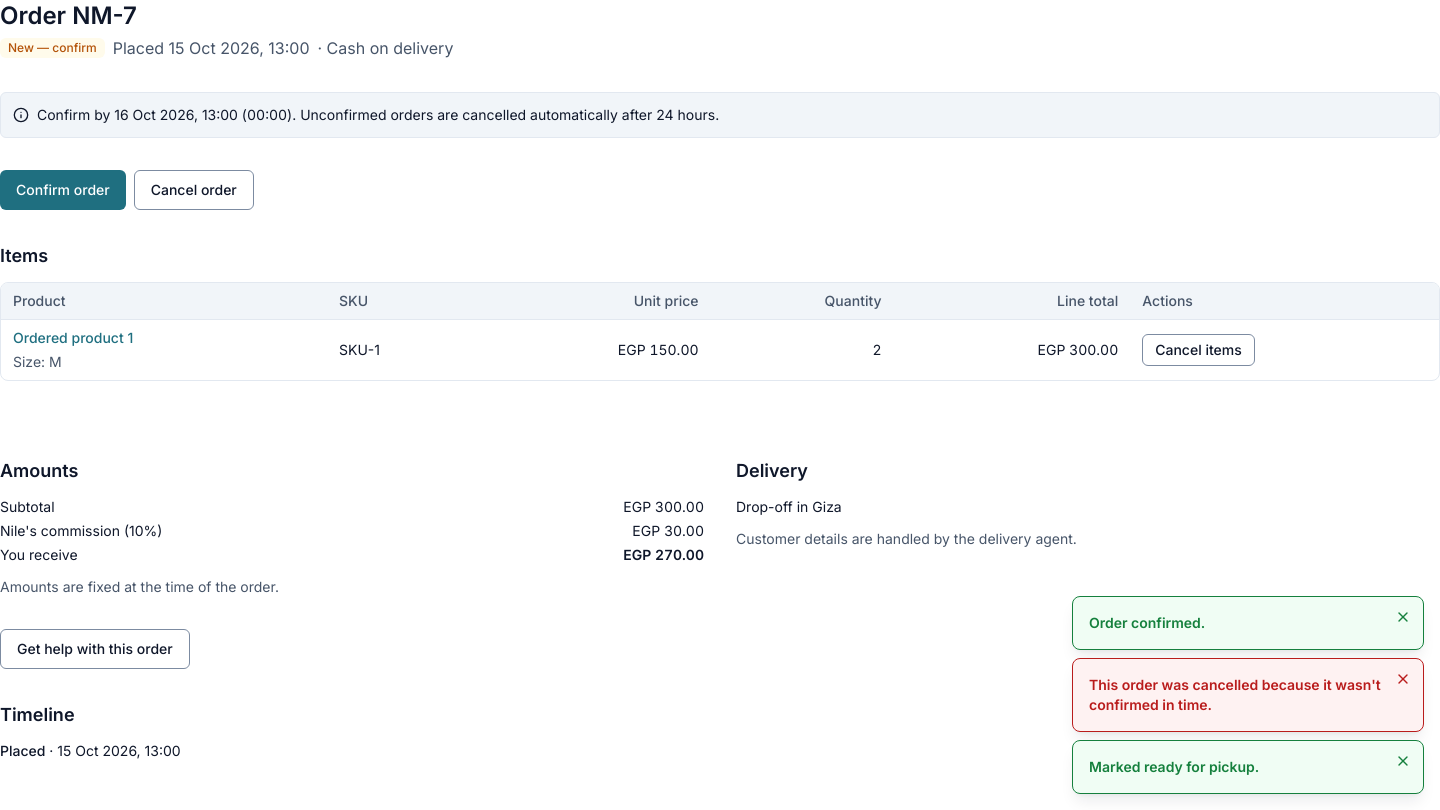
Scenario: seller order (spec 02 SE-15) › Cancel order: note sent trimmed; a retry after a failure reuses the key
The image size is (1440, 810).
Step 1. Click the button "Cancel order" → (194, 190), box [134, 170, 254, 210]
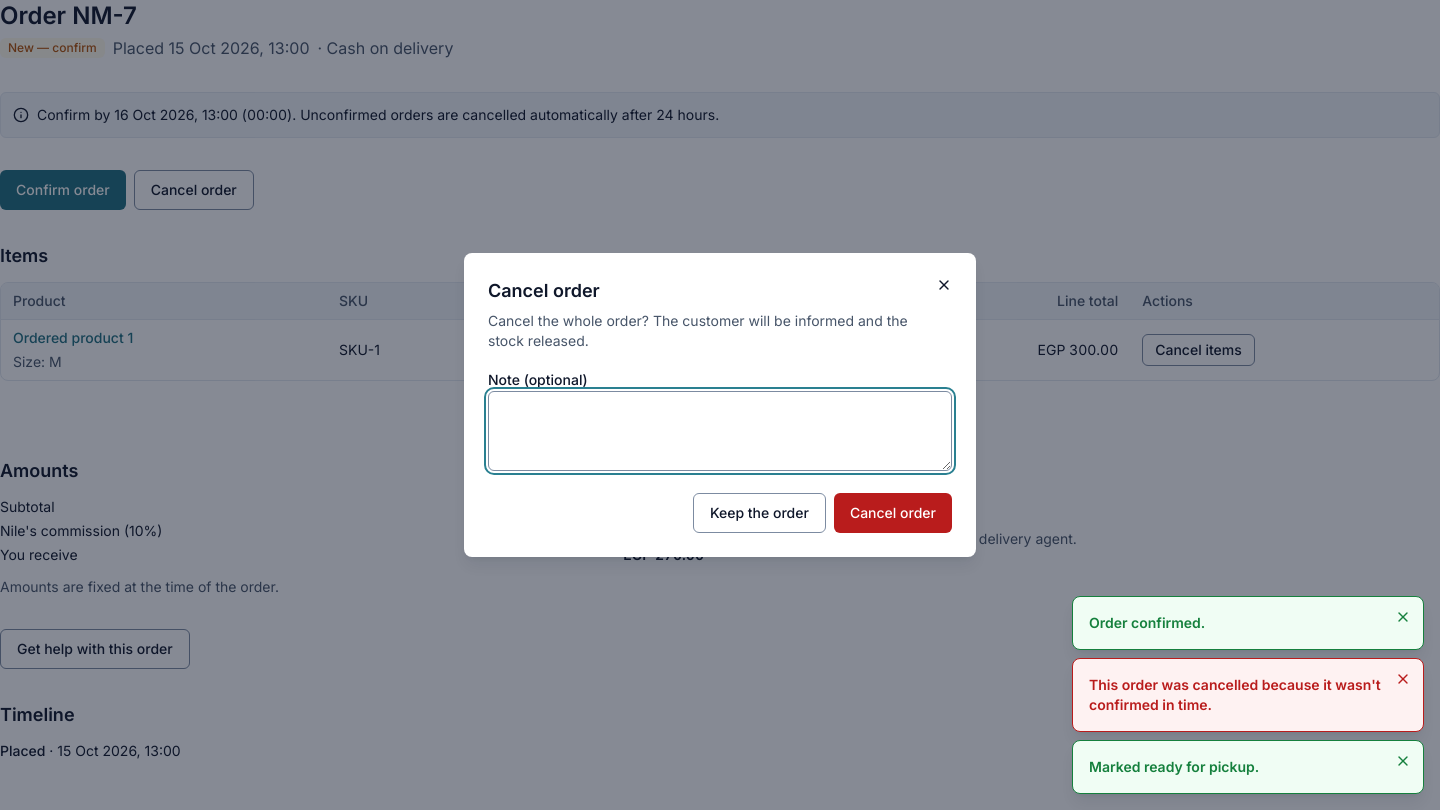
Check: the text "Cancel the whole order? The customer will be informed and the stock released." is shown, box [488, 311, 920, 351]
Step 2. Type "  Out of stock  " into the text box labelled "Note (optional)" → (720, 431), box [488, 391, 952, 471]
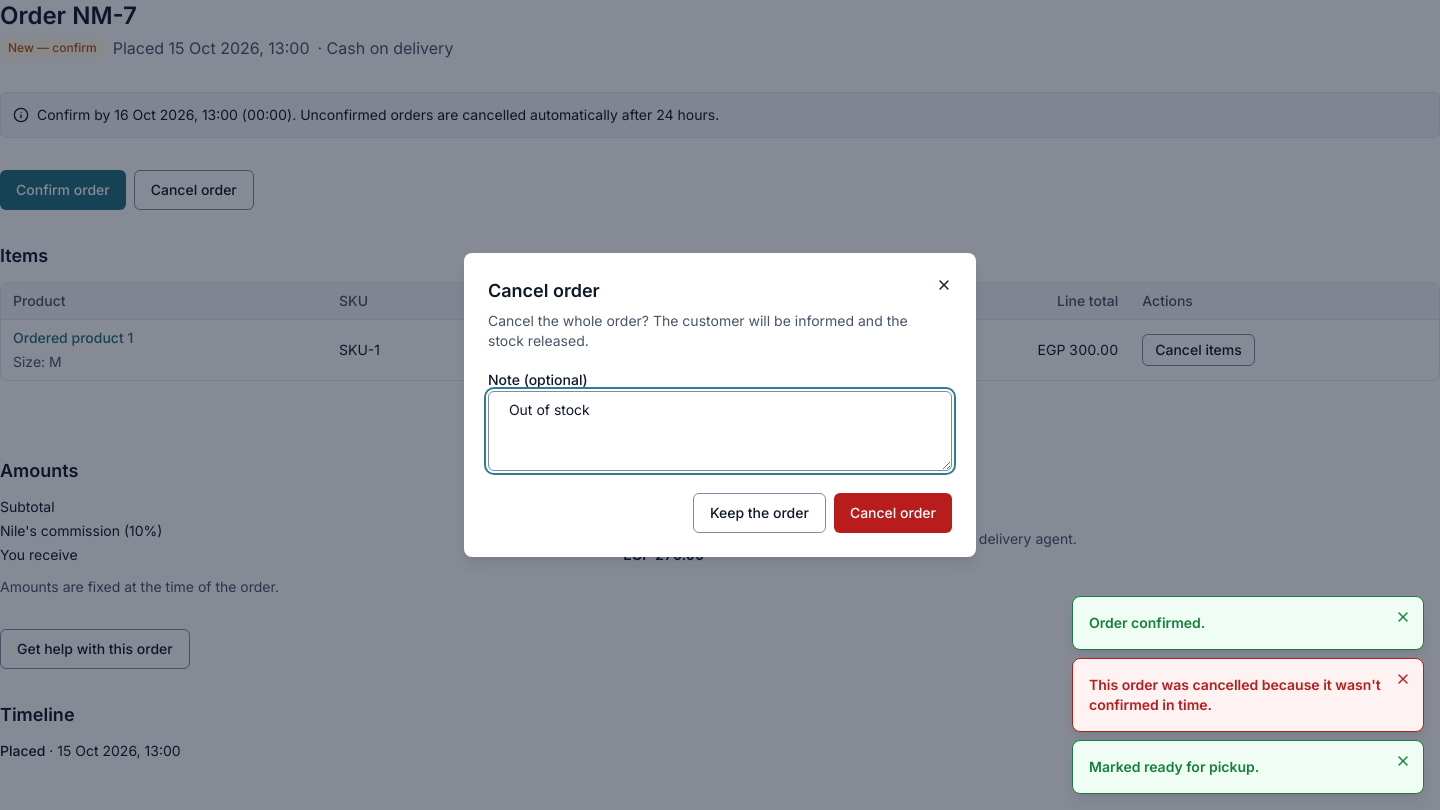
Step 3. Click the button "Cancel order" → (893, 513), box [834, 493, 952, 533]
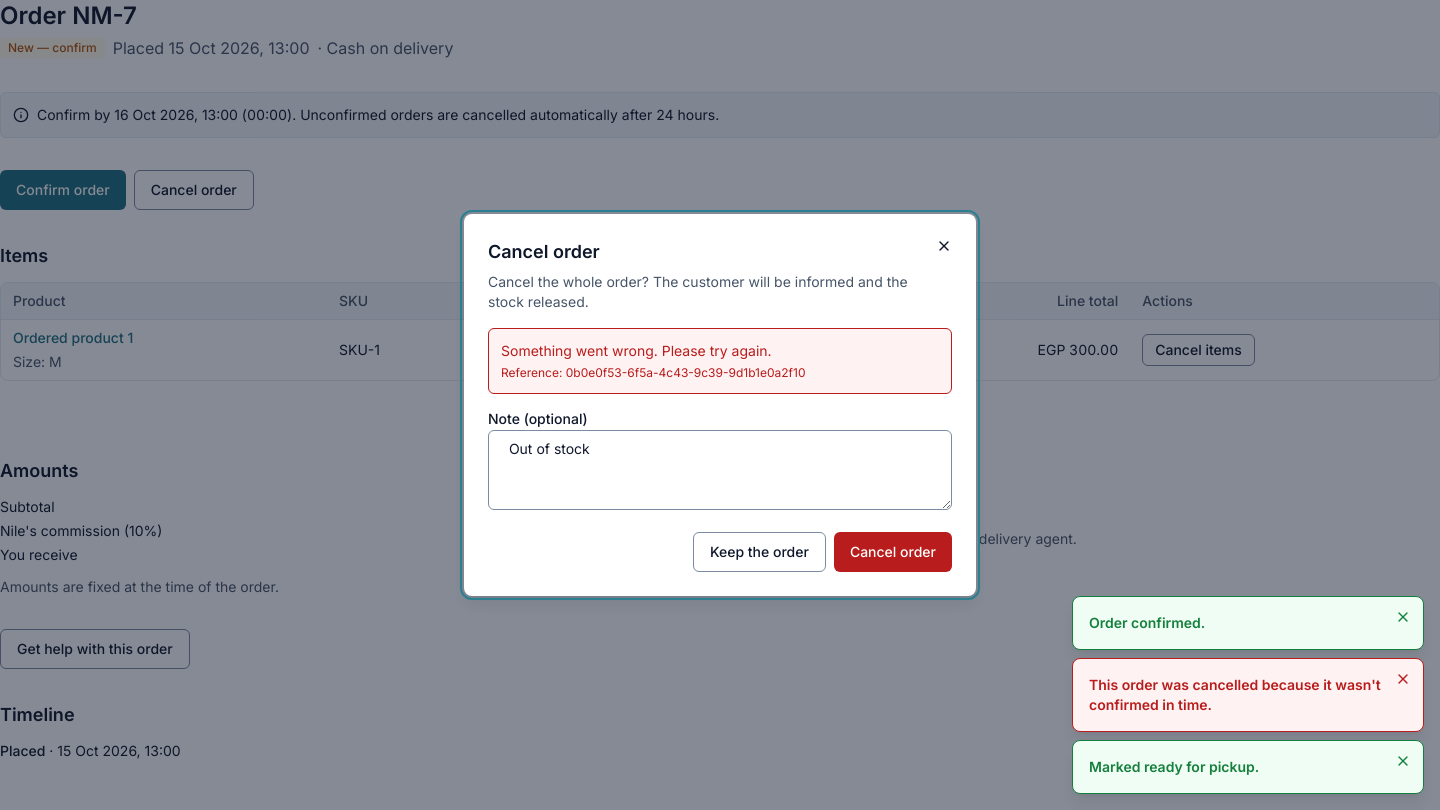
Check: the message is shown, box [488, 328, 952, 394]
Step 4. Click the button "Cancel order" → (893, 552), box [834, 532, 952, 572]
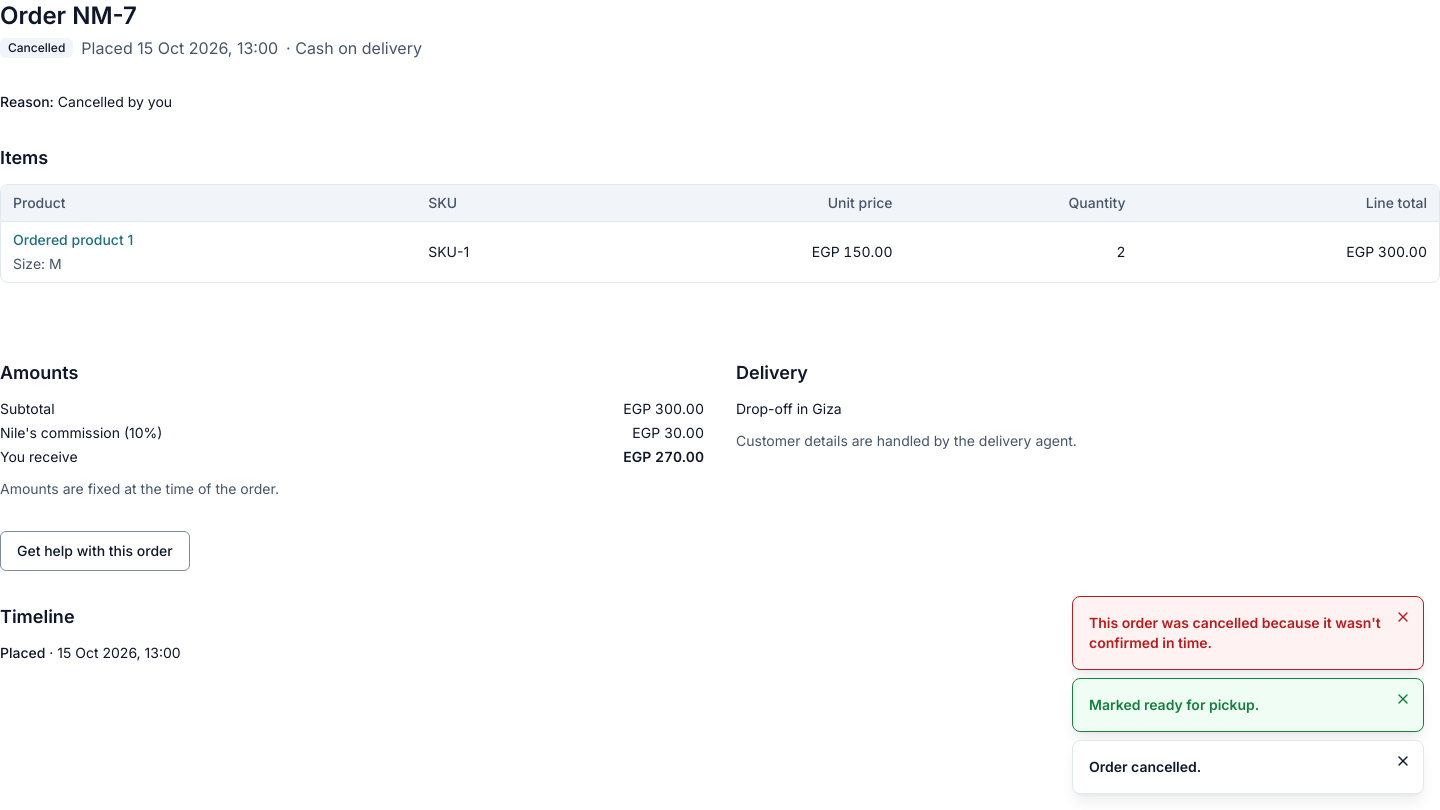
Check: the text "Order cancelled." is shown, box [1089, 758, 1201, 775]
Check: the text "Cancelled by you" is shown, box [58, 93, 172, 110]
